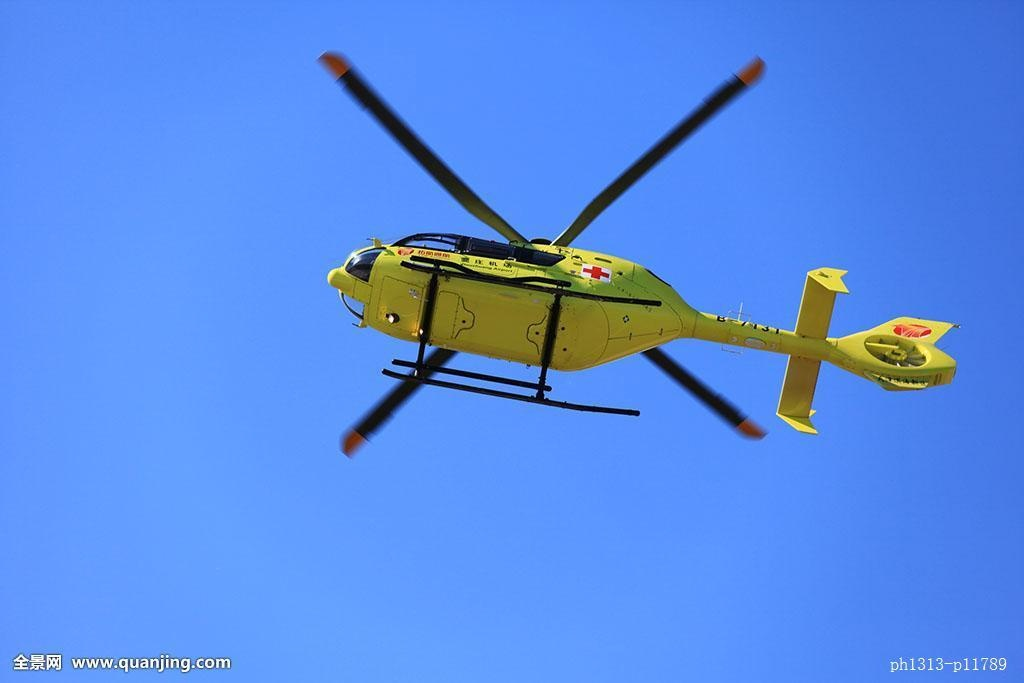airplane: (302, 34, 961, 461)
